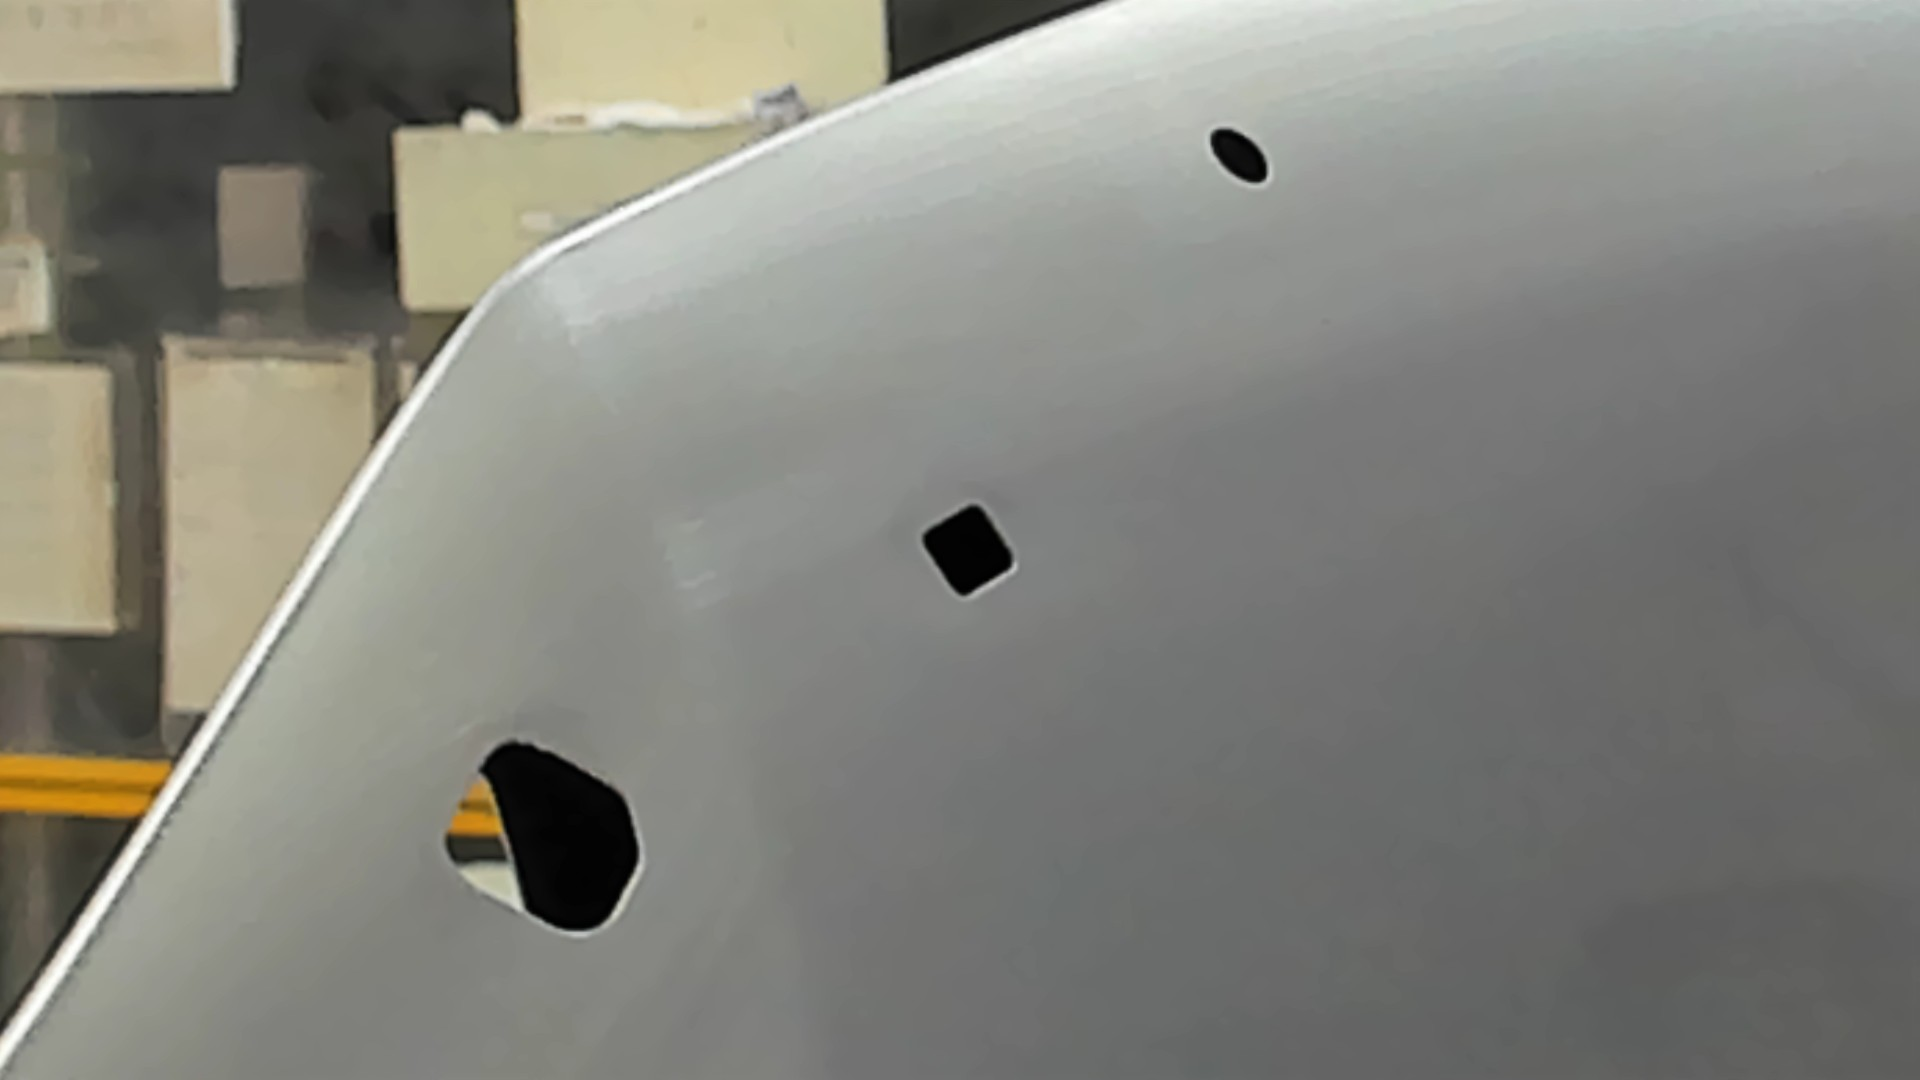chico: (1207, 124, 1273, 186)
grande: (443, 738, 647, 940)
mediano: (918, 501, 1019, 600)
